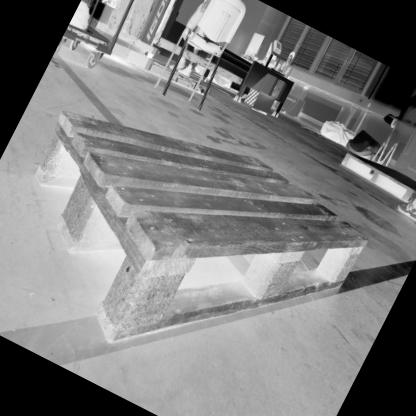BoxFace: (33, 106, 372, 353), (336, 149, 413, 209)
